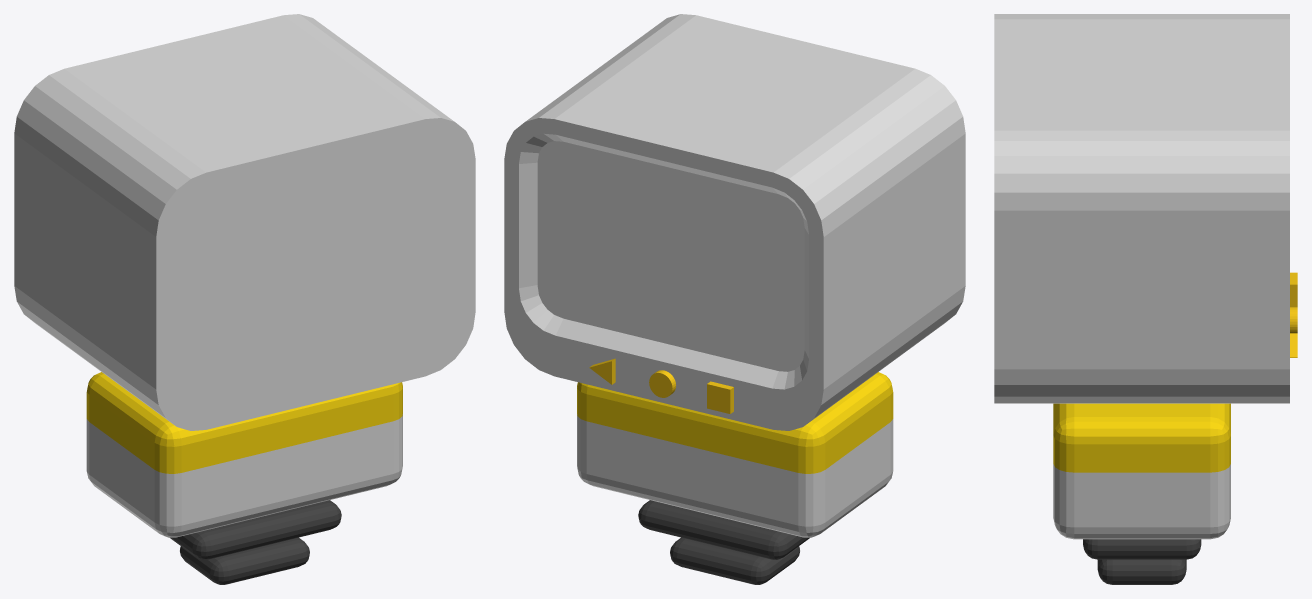
The model's file is Robot.fbx.
The picture shows the model from 3 angles, left to right: view 1: azimuth 30°, elevation 25°; view 2: azimuth 150°, elevation 25°; view 3: azimuth 270°, elevation 25°; orthographic projection. The views are drawn at different scales.
Parts seen in each view (by area): view 1: Head, Body, hover1, hover2; view 2: Head, Body, hover1, hover2, squareButton, circleButton; view 3: Head, Body, hover1, hover2.
Part boxes in pixels (<box>): Head: <box>14,14,475,430</box>; Body: <box>86,372,402,537</box>; hover1: <box>170,500,341,559</box>; hover2: <box>180,537,309,584</box>; Head: <box>504,14,965,430</box>; Body: <box>577,372,893,537</box>; hover1: <box>638,500,809,559</box>; hover2: <box>670,537,799,584</box>; squareButton: <box>707,381,733,413</box>; circleButton: <box>649,370,676,397</box>; Head: <box>994,14,1289,403</box>; Body: <box>1053,403,1230,539</box>; hover1: <box>1083,539,1201,559</box>; hover2: <box>1097,559,1186,584</box>.
Bounding box in the file's own units: 260 × 366 × 205.
